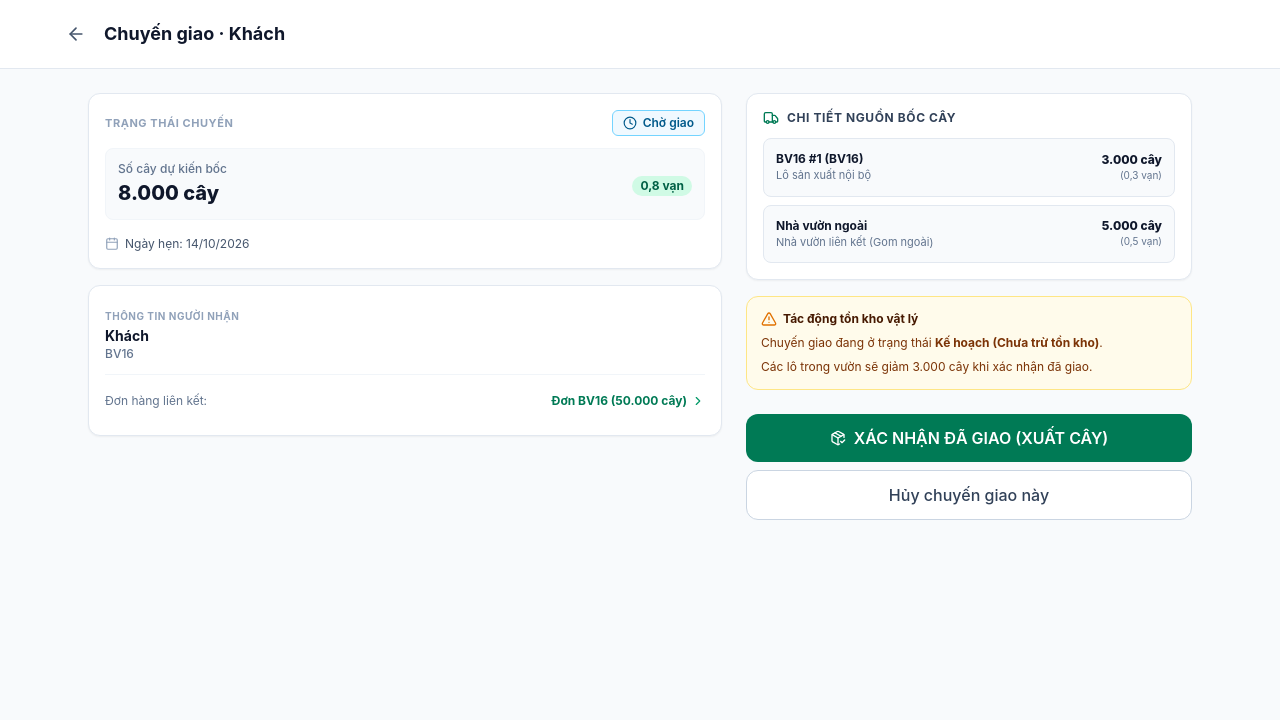
Test: FC4 final acceptance: external release/shipment truthfulness (real Dexie) › mixed confirmation describes own3k stock effect separately from total8k delivery
Expected: the text "Các lô trong vườn sẽ giảm 3.000 cây khi xác nhận đã giao." is shown, [761,358,1092,374]
Click the button "XÁC NHẬN ĐÃ GIAO (XUẤT CÂY)". click: (969, 438)
box: [746,414,1192,462]
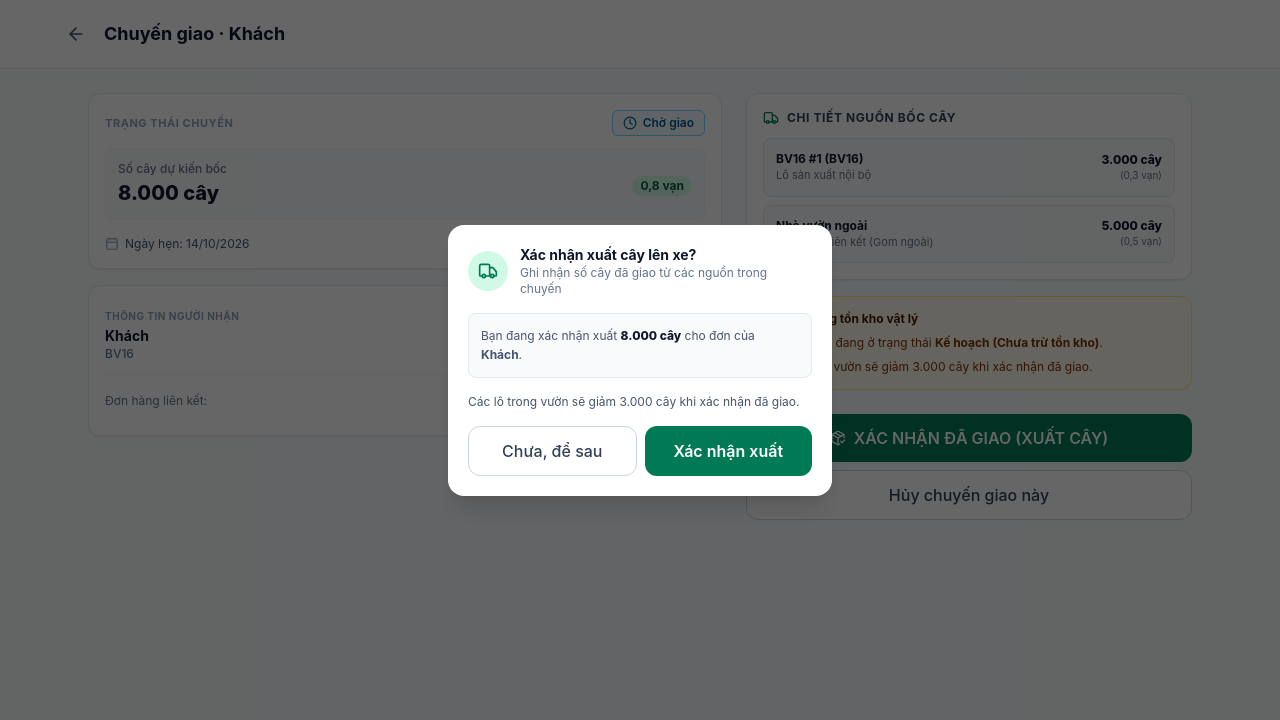
Expected: the text "Các lô trong vườn sẽ giảm 3.000 cây khi xác nhận đã giao." is shown 2 times, [761,358,1092,374]; [468,394,812,410]
Click the button "Xác nhận xuất". click: (728, 450)
box: [645,426,812,476]
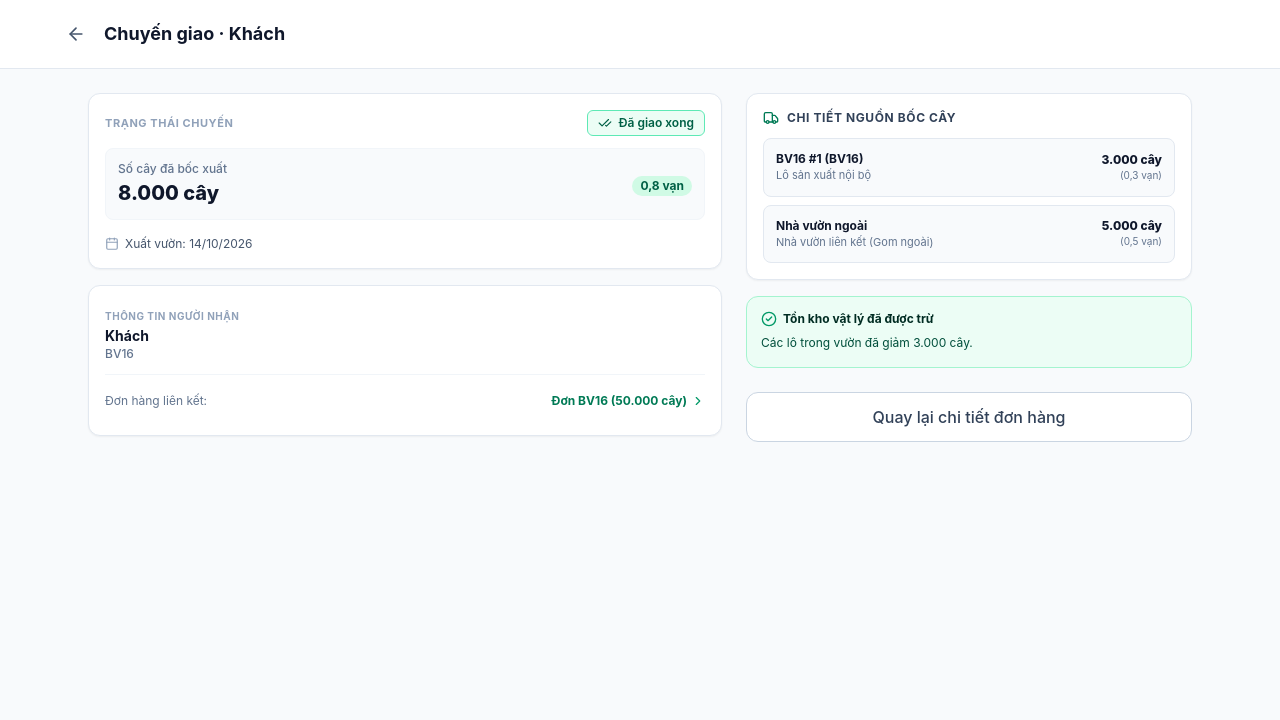
Result: the text "Các lô trong vườn đã giảm 3.000 cây." is shown at [761,335,973,350]
